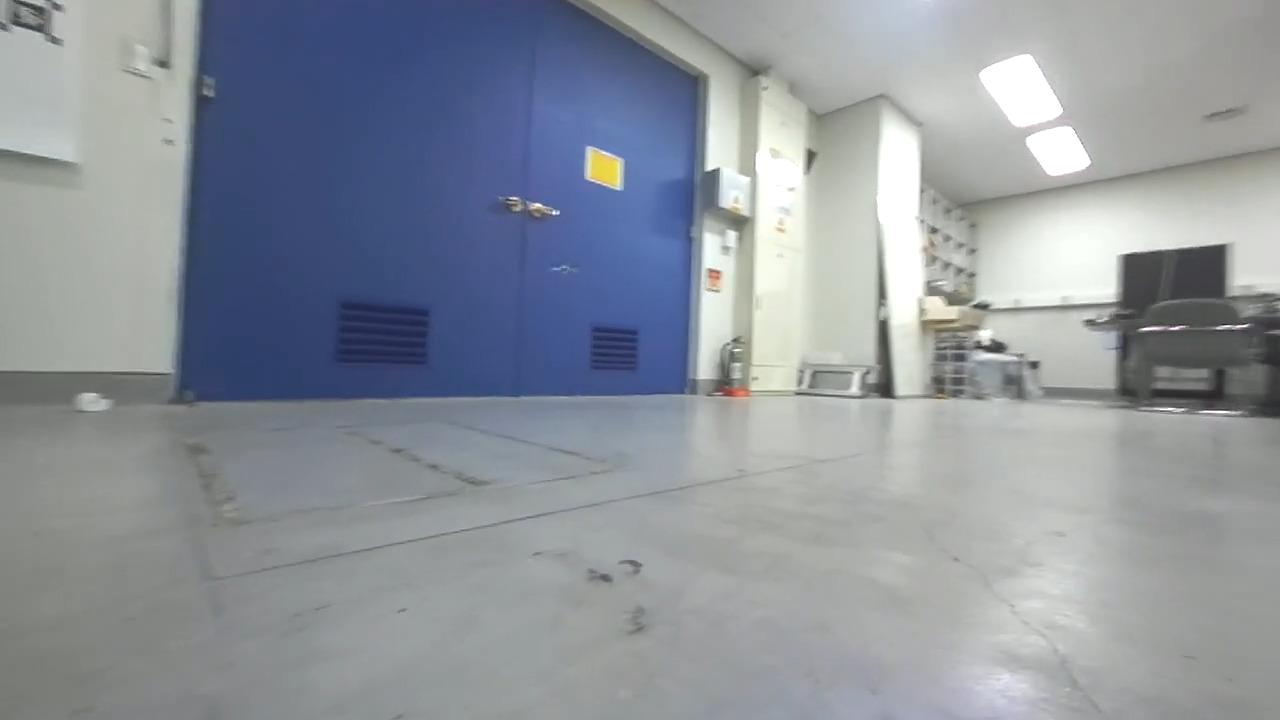crazyflie: (548, 258, 581, 278)
